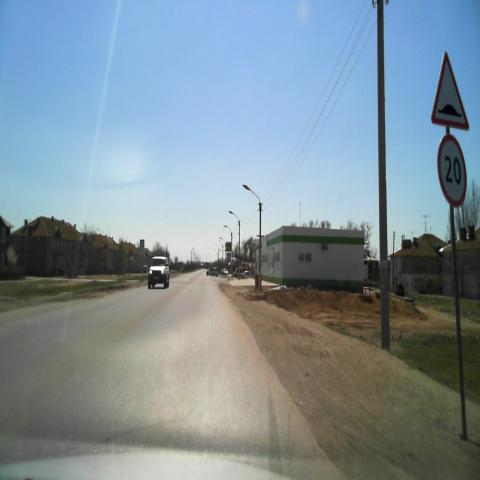1_17: (428, 51, 471, 130)
